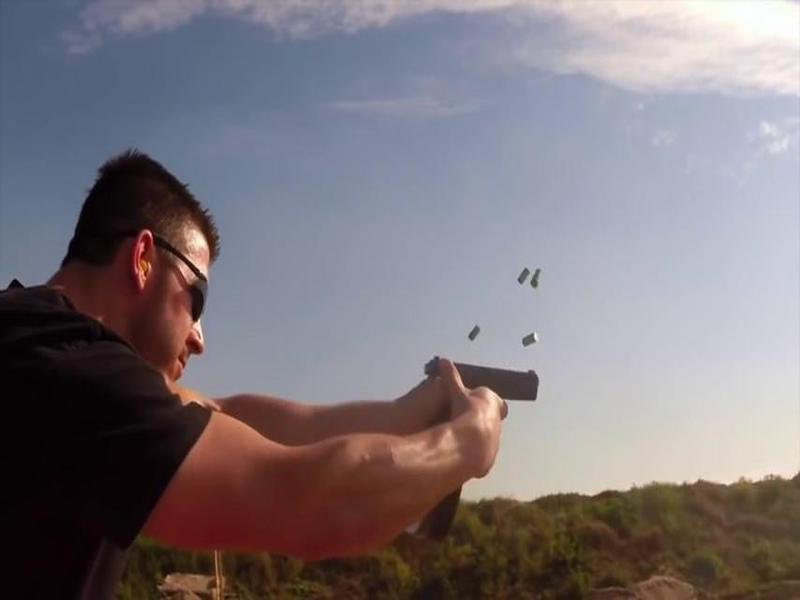Pistola: (387, 336, 563, 442)
